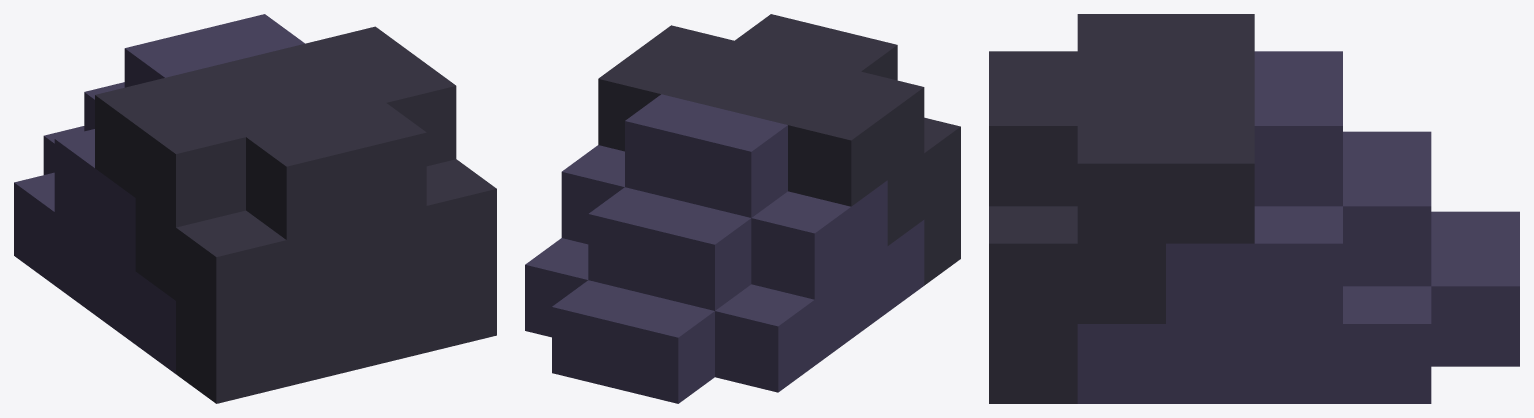
Rendered from Soldier_Export-2.obj.
3 renders of one model, left to right at view 1: azimuth 30°, elevation 25°; view 2: azimuth 150°, elevation 25°; view 3: azimuth 270°, elevation 25°, orthographic. The views are drawn at different scales.
Bounding box in the file's own units: 0.4 × 0.3 × 0.6.
1 material, 1 textured.
